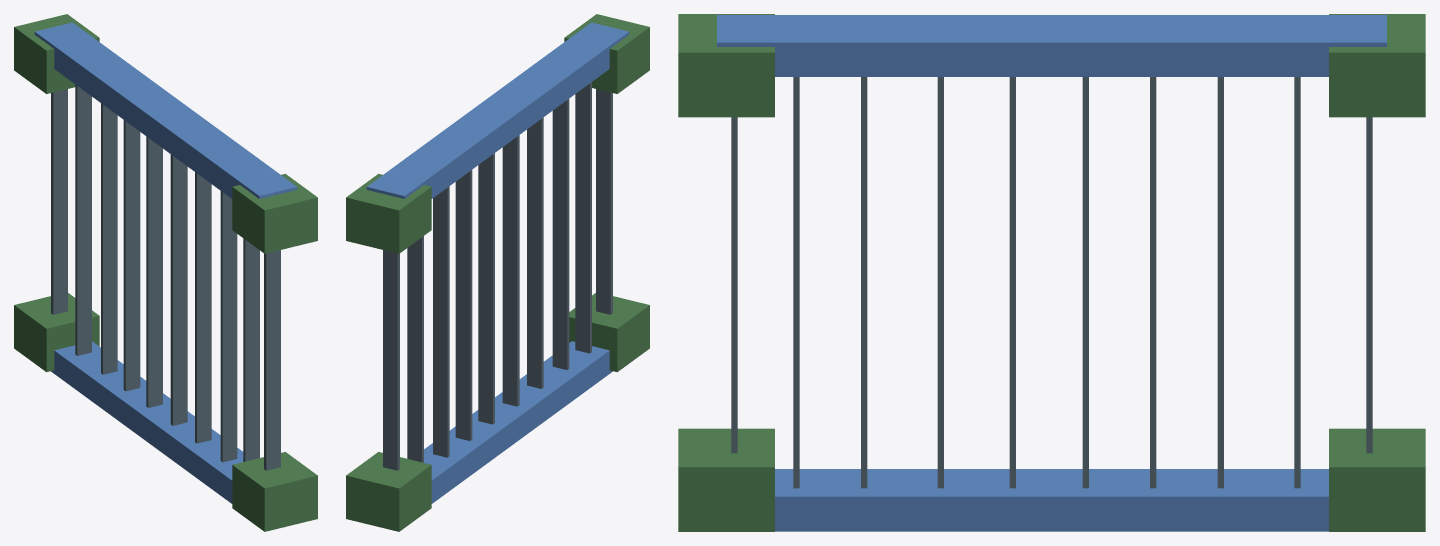
File: Fence_Dog_Pivot.fbx
3 renders of one model, left to right at view 1: azimuth 30°, elevation 25°; view 2: azimuth 150°, elevation 25°; view 3: azimuth 270°, elevation 25°, orthographic. The views are drawn at different scales.
Parts seen in each view (by area): view 1: Dog_Fence_5; view 2: Dog_Fence_5; view 3: Dog_Fence_5.
Boxes of the visible parts, x1,y1,x2,y2 form: Dog_Fence_5: (14,14,317,531); Dog_Fence_5: (346,14,649,531); Dog_Fence_5: (678,14,1425,531).
Size of the model in its own units: 21.47 by 126 by 175.
